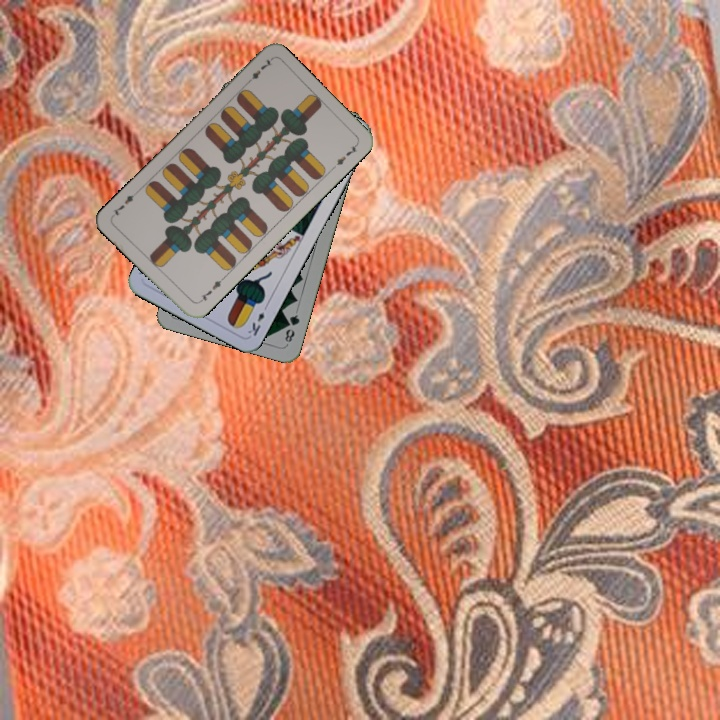E7: (242, 55, 275, 87), (194, 274, 226, 306)
EK: (244, 300, 271, 338)
G8: (281, 311, 302, 345)
